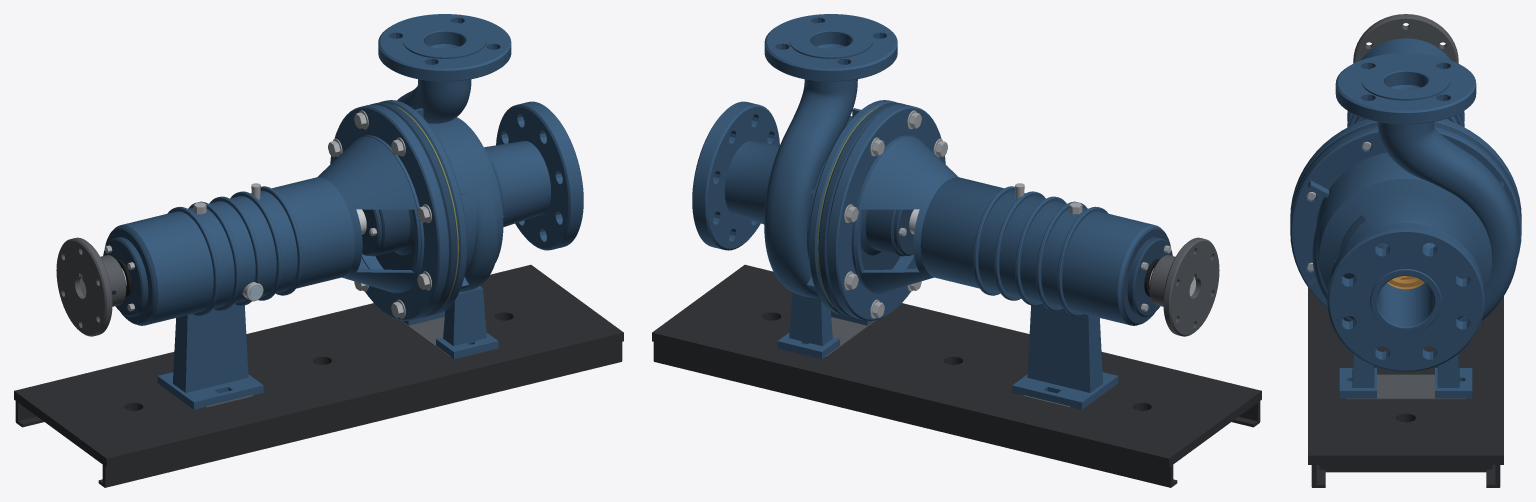
Rendered from centrifugal-pump-v2.glb.
The picture shows the model from 3 angles, left to right: view 1: azimuth 30°, elevation 25°; view 2: azimuth 150°, elevation 25°; view 3: azimuth 270°, elevation 25°; orthographic projection. The views are drawn at different scales.
Visible parts, largest first — view 1: environment, pump-bearing-bracket__M_Tinta_Azul, pump-volute-casing__M_Tinta_Azul, pump-mechanical-seal__M_Tinta_Azul_Escuro, pump-coupling-hub__M_Acoplamento, pump-bearing-bracket__M_Tinta_Azul_Escuro, pump-bearing-bracket__M_Aco_Zincado; view 2: environment, pump-bearing-bracket__M_Tinta_Azul, pump-volute-casing__M_Tinta_Azul, pump-mechanical-seal__M_Tinta_Azul_Escuro, pump-coupling-hub__M_Acoplamento, pump-bearing-bracket__M_Tinta_Azul_Escuro; view 3: pump-volute-casing__M_Tinta_Azul, environment, pump-coupling-hub__M_Acoplamento, pump-bearing-bracket__M_Tinta_Azul, pump-mechanical-seal__M_Tinta_Azul_Escuro, pump-impeller__M_Bronze, pump-volute-casing__M_Tinta_Azul_Escuro.
Boxes of the visible parts, x1=… form: environment: x1=14, y1=264, x2=623, y2=487; pump-bearing-bracket__M_Tinta_Azul: x1=114, y1=104, x2=449, y2=409; pump-volute-casing__M_Tinta_Azul: x1=378, y1=14, x2=583, y2=359; pump-mechanical-seal__M_Tinta_Azul_Escuro: x1=362, y1=102, x2=457, y2=317; pump-coupling-hub__M_Acoplamento: x1=56, y1=237, x2=126, y2=336; pump-bearing-bracket__M_Tinta_Azul_Escuro: x1=103, y1=227, x2=154, y2=324; pump-bearing-bracket__M_Aco_Zincado: x1=104, y1=183, x2=263, y2=311; environment: x1=652, y1=264, x2=1261, y2=487; pump-bearing-bracket__M_Tinta_Azul: x1=826, y1=104, x2=1161, y2=409; pump-volute-casing__M_Tinta_Azul: x1=692, y1=14, x2=897, y2=359; pump-mechanical-seal__M_Tinta_Azul_Escuro: x1=818, y1=102, x2=913, y2=317; pump-coupling-hub__M_Acoplamento: x1=1149, y1=237, x2=1219, y2=336; pump-bearing-bracket__M_Tinta_Azul_Escuro: x1=1121, y1=227, x2=1172, y2=324; pump-volute-casing__M_Tinta_Azul: x1=1290, y1=53, x2=1521, y2=398; environment: x1=1308, y1=287, x2=1503, y2=487; pump-coupling-hub__M_Acoplamento: x1=1353, y1=14, x2=1458, y2=63; pump-bearing-bracket__M_Tinta_Azul: x1=1290, y1=38, x2=1521, y2=218; pump-mechanical-seal__M_Tinta_Azul_Escuro: x1=1290, y1=122, x2=1521, y2=265; pump-impeller__M_Bronze: x1=1388, y1=276, x2=1423, y2=287; pump-volute-casing__M_Tinta_Azul_Escuro: x1=1334, y1=215, x2=1365, y2=262.
Size of the model in its own units: 7.4 by 4.4 by 2.72.
